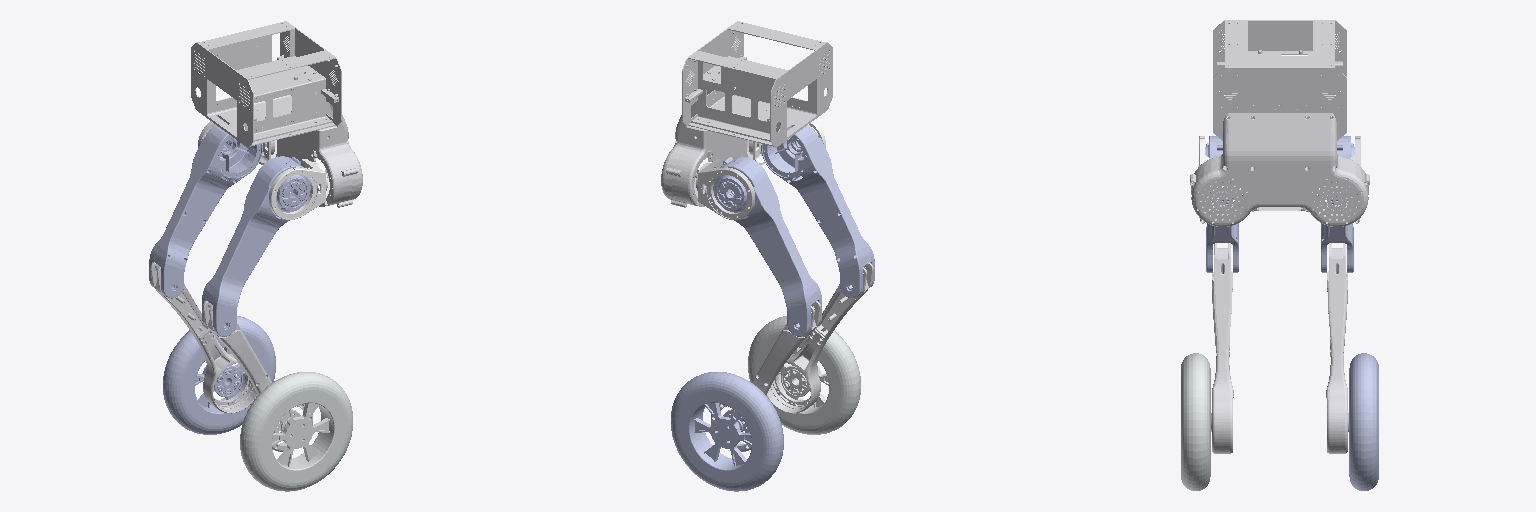
URDF robot description (l5aurdf20260521):
<?xml version="1.0" encoding="utf-8"?>
<!-- This URDF was automatically created by SolidWorks to URDF Exporter! Originally created by Stephen Brawner (brawner@gmail.com) 
     Commit Version: 1.6.0-1-g15f4949  Build Version: 1.6.7594.29634
     For more information, please see http://wiki.ros.org/sw_urdf_exporter -->
<robot
  name="l5aurdf20260521">

  <mujoco>
    <compiler meshdir="../meshes" discardvisual="false" balanceinertia="false" />
  </mujoco>

<!-- 由urdf生成xml时需打开下面注释，生成完之后进行注释 -->
  <!-- <link 
    name="world">
  </link>
  <joint 
    name="base_joint" type="floating">
    <parent link="world" />
    <child link="base_link" />
  </joint> -->

  <link
    name="base_link">
    <inertial>
      <origin
        xyz="-0.057921 0.000679 0.013437"
        rpy="0 0 0" />
      <mass
        value="9.6101" />
      <inertia
        ixx="0.12573"
        ixy="0.0005"
        ixz="0.027108"
        iyy="0.11618"
        iyz="-0.000592"
        izz="0.10822" />
    </inertial>
    <visual>
      <origin
        xyz="0 0 0"
        rpy="0 0 0" />
      <geometry>
        <mesh
          filename="../meshes/base_link.STL" />
      </geometry>
      <material
        name="">
        <color
          rgba="0.8902 0.8902 0.91373 1" />
      </material>
    </visual>
    <collision>
      <origin
        xyz="0 0 0"
        rpy="0 0 0" />
      <geometry>
        <mesh
          filename="../meshes/base_link.STL" />
      </geometry>
    </collision>
  </link>
  <link
    name="left_hip_roll_link">
    <inertial>
      <origin
        xyz="-0.067435 0.052643 -3.2E-05"
        rpy="0 0 0" />
      <mass
        value="1.2052" />
      <inertia
        ixx="0.001653"
        ixy="0.000623"
        ixz="0"
        iyy="0.002402"
        iyz="1E-06"
        izz="0.002368" />
    </inertial>
    <visual>
      <origin
        xyz="0 0 0"
        rpy="0 0 0" />
      <geometry>
        <mesh
          filename="../meshes/left_hip_roll_link.STL" />
      </geometry>
      <material
        name="">
        <color
          rgba="0.8902 0.8902 0.91373 1" />
      </material>
    </visual>
    <collision>
      <origin
        xyz="0 0 0"
        rpy="0 0 0" />
      <geometry>
        <mesh
          filename="../meshes/left_hip_roll_link.STL" />
      </geometry>
    </collision>
  </link>
  <joint
    name="left_hip_roll_joint"
    type="revolute">
    <origin
      xyz="-0.027 0.105 -0.1017"
      rpy="0 0 0" />
    <parent
      link="base_link" />
    <child
      link="left_hip_roll_link" />
    <axis
      xyz="1 0 0" />
    <limit
      lower="-0.384"
      upper="1.396"
      effort="90"
      velocity="16.433" />
  </joint>
  <link
    name="left_hip_pitch_link">
    <inertial>
      <origin
        xyz="-0.032261 -0.059213 -0.041738"
        rpy="0 0 0" />
      <mass
        value="2.294" />
      <inertia
        ixx="0.017999"
        ixy="0.001578"
        ixz="-0.009529"
        iyy="0.023509"
        iyz="0.002039"
        izz="0.009994" />
    </inertial>
    <visual>
      <origin
        xyz="0 0 0"
        rpy="0 0 0" />
      <geometry>
        <mesh
          filename="../meshes/left_hip_pitch_link.STL" />
      </geometry>
      <material
        name="">
        <color
          rgba="0.79216 0.81961 0.93333 1" />
      </material>
    </visual>
    <collision>
      <origin
        xyz="0 0 0"
        rpy="0 0 0" />
      <geometry>
        <mesh
          filename="../meshes/left_hip_pitch_link.STL" />
      </geometry>
    </collision>
  </link>
  <joint
    name="left_hip_pitch_joint"
    type="revolute">
    <origin
      xyz="-0.08 0.0375 0"
      rpy="0 0 0" />
    <parent
      link="left_hip_roll_link" />
    <child
      link="left_hip_pitch_link" />
    <axis
      xyz="0 1 0" />
    <limit
      lower="-0.908"
      upper="1.396"
      effort="90"
      velocity="16.433" />
  </joint>
  <link
    name="left_knee_link">
    <inertial>
      <origin
        xyz="0.11397 -0.00529 -0.19558"
        rpy="0 0 0" />
      <mass
        value="1.6802" />
      <inertia
        ixx="0.017804"
        ixy="0.000397"
        ixz="0.009364"
        iyy="0.023805"
        iyz="-0.000707"
        izz="0.006727" />
    </inertial>
    <visual>
      <origin
        xyz="0 0 0"
        rpy="0 0 0" />
      <geometry>
        <mesh
          filename="../meshes/left_knee_link.STL" />
      </geometry>
      <material
        name="">
        <color
          rgba="0.8902 0.8902 0.91373 1" />
      </material>
    </visual>
    <collision>
      <origin
        xyz="0 0 0"
        rpy="0 0 0" />
      <geometry>
        <mesh
          filename="../meshes/left_knee_link.STL" />
      </geometry>
    </collision>
  </link>
  <joint
    name="left_knee_joint"
    type="revolute">
    <origin
      xyz="-0.15 -0.0375 -0.25981"
      rpy="0 0 0" />
    <parent
      link="left_hip_pitch_link" />
    <child
      link="left_knee_link" />
    <axis
      xyz="0 1 0" />
    <limit
      lower="-1.309"
      upper="0.262"
      effort="130"
      velocity="14.653" />
  </joint>
  <link
    name="left_wheel_link">
    <inertial>
      <origin
        xyz=" -0.007268  0.034782 -0.003159"
        rpy="0 0 0" />
      <mass
        value="1.232459" />
      <inertia
        ixx="0.004718"
        ixy="0"
        ixz="0"
        iyy=" 0.008809"
        iyz="0"
        izz="0.004718" />
    </inertial>
    <visual>
      <origin
        xyz="0 0 0"
        rpy="0 0 0" />
      <geometry>
        <mesh
          filename="../meshes/left_wheel_link.STL" />
      </geometry>
      <material
        name="">
        <color
          rgba="0.79216 0.81961 0.93333 1" />
      </material>
    </visual>
    <collision>
      <origin
        xyz="0 0 0"
        rpy="0 0 0" />
      <geometry>
        <mesh
          filename="../meshes/left_wheel_link.STL" />
      </geometry>
    </collision>
  </link>
  <joint
    name="left_wheel_joint"
    type="revolute">
    <origin
      xyz="0.15 0.0135 -0.25981"
      rpy="0 0 0" />
    <parent
      link="left_knee_link" />
    <child
      link="left_wheel_link" />
    <axis
      xyz="0 1 0" />
    <limit
      lower="-1000000"
      upper="1000000"
      effort="90"
      velocity="16.433" />
  </joint>
  <link
    name="right_hip_roll_link">
    <inertial>
      <origin
        xyz="-0.067435 -0.052643 3.2E-05"
        rpy="0 0 0" />
      <mass
        value="1.2052" />
      <inertia
        ixx="0.001653"
        ixy="-0.000623"
        ixz="0"
        iyy="0.002402"
        iyz="1E-06"
        izz="0.002368" />
    </inertial>
    <visual>
      <origin
        xyz="0 0 0"
        rpy="0 0 0" />
      <geometry>
        <mesh
          filename="../meshes/right_hip_roll_link.STL" />
      </geometry>
      <material
        name="">
        <color
          rgba="1 1 1 1" />
      </material>
    </visual>
    <collision>
      <origin
        xyz="0 0 0"
        rpy="0 0 0" />
      <geometry>
        <mesh
          filename="../meshes/right_hip_roll_link.STL" />
      </geometry>
    </collision>
  </link>
  <joint
    name="right_hip_roll_joint"
    type="revolute">
    <origin
      xyz="-0.027 -0.105 -0.1017"
      rpy="0 0 0" />
    <parent
      link="base_link" />
    <child
      link="right_hip_roll_link" />
    <axis
      xyz="1 0 0" />
    <limit
      lower="-1.396"
      upper="0.384"
      effort="90"
      velocity="16.433" />
  </joint>
  <link
    name="right_hip_pitch_link">
    <inertial>
      <origin
        xyz="-0.026447 0.059888 -0.032975"
        rpy="0 0 0" />
      <mass
        value="2.8399" />
      <inertia
        ixx="0.019286"
        ixy="-0.001629"
        ixz="-0.010145"
        iyy="0.025049"
        iyz="-0.002114"
        izz="0.010722" />
    </inertial>
    <visual>
      <origin
        xyz="0 0 0"
        rpy="0 0 0" />
      <geometry>
        <mesh
          filename="../meshes/right_hip_pitch_link.STL" />
      </geometry>
      <material
        name="">
        <color
          rgba="0.79216 0.81961 0.93333 1" />
      </material>
    </visual>
    <collision>
      <origin
        xyz="0 0 0"
        rpy="0 0 0" />
      <geometry>
        <mesh
          filename="../meshes/right_hip_pitch_link.STL" />
      </geometry>
    </collision>
  </link>
  <joint
    name="right_hip_pitch_joint"
    type="revolute">
    <origin
      xyz="-0.08 -0.0375 0"
      rpy="0 0 0" />
    <parent
      link="right_hip_roll_link" />
    <child
      link="right_hip_pitch_link" />
    <axis
      xyz="0 1 0" />
    <limit
      lower="-0.908"
      upper="1.396"
      effort="90"
      velocity="16.433" />
  </joint>
  <link
    name="right_knee_link">
    <inertial>
      <origin
        xyz="0.11394 0.005271 -0.19561"
        rpy="0 0 0" />
      <mass
        value="1.6815" />
      <inertia
        ixx="0.017787"
        ixy="-0.000395"
        ixz="0.009345"
        iyy="0.023772"
        iyz="0.000707"
        izz="0.006713" />
    </inertial>
    <visual>
      <origin
        xyz="0 0 0"
        rpy="0 0 0" />
      <geometry>
        <mesh
          filename="../meshes/right_knee_link.STL" />
      </geometry>
      <material
        name="">
        <color
          rgba="0.8902 0.8902 0.91373 1" />
      </material>
    </visual>
    <collision>
      <origin
        xyz="0 0 0"
        rpy="0 0 0" />
      <geometry>
        <mesh
          filename="../meshes/right_knee_link.STL" />
      </geometry>
    </collision>
  </link>
  <joint
    name="right_knee_joint"
    type="revolute">
    <origin
      xyz="-0.15 0.0375 -0.25981"
      rpy="0 0 0" />
    <parent
      link="right_hip_pitch_link" />
    <child
      link="right_knee_link" />
    <axis
      xyz="0 1 0" />
    <limit
      lower="-1.309"
      upper="0.262"
      effort="130"
      velocity="14.653" />
  </joint>
  <link
    name="right_wheel_link">
    <inertial>
      <origin
        xyz="-0.000001 -0.034784 0"
        rpy="0 0 0" />
      <mass
        value="1.233799" />
      <inertia
        ixx="0.004718"
        ixy="0"
        ixz="0"
        iyy="0.008809"
        iyz="0"
        izz="0.004718" />
    </inertial>
    <visual>
      <origin
        xyz="0 0 0"
        rpy="0 0 0" />
      <geometry>
        <mesh
          filename="../meshes/right_wheel_link.STL" />
      </geometry>
      <material
        name="">
        <color
          rgba="0.89804 0.91765 0.92941 1" />
      </material>
    </visual>
    <collision>
      <origin
        xyz="0 0 0"
        rpy="0 0 0" />
      <geometry>
        <mesh
          filename="../meshes/right_wheel_link.STL" />
      </geometry>
    </collision>
  </link>
  <joint
    name="right_wheel_joint"
    type="revolute">
    <origin
      xyz="0.15 -0.0135 -0.25981"
      rpy="0 0 0" />
    <parent
      link="right_knee_link" />
    <child
      link="right_wheel_link" />
    <axis
      xyz="0 1 0" />
    <limit
      lower="-1000000"
      upper="1000000"
      effort="90"
      velocity="16.433" />
  </joint>
</robot>

--- Render facts (derived) ---
Views: 3 orthographic renders of the robot side by side, from view 1: azimuth 30°, elevation 25°; view 2: azimuth 150°, elevation 25°; view 3: azimuth 270°, elevation 25°.
Model l5aurdf20260521 with 9 links and 8 joints (8 revolute), rooted at base_link, posed every joint at zero.
Visible links, largest first — view 1: base_link, right_wheel_link, left_hip_pitch_link, right_hip_pitch_link, left_wheel_link, left_knee_link, right_knee_link, right_hip_roll_link; view 2: base_link, left_wheel_link, right_hip_pitch_link, left_hip_pitch_link, right_wheel_link, right_knee_link, left_knee_link, left_hip_roll_link; view 3: base_link, left_wheel_link, right_wheel_link, left_knee_link, right_knee_link, left_hip_pitch_link, right_hip_pitch_link.
Boxes of the visible links, x1=… form: base_link: x1=191, y1=21, x2=362, y2=207; right_wheel_link: x1=240, y1=372, x2=352, y2=491; left_hip_pitch_link: x1=149, y1=122, x2=262, y2=298; right_hip_pitch_link: x1=202, y1=156, x2=310, y2=336; left_wheel_link: x1=163, y1=316, x2=275, y2=434; left_knee_link: x1=150, y1=262, x2=256, y2=413; right_knee_link: x1=203, y1=301, x2=312, y2=451; right_hip_roll_link: x1=269, y1=159, x2=327, y2=219; base_link: x1=661, y1=21, x2=832, y2=207; left_wheel_link: x1=671, y1=372, x2=783, y2=491; right_hip_pitch_link: x1=761, y1=125, x2=874, y2=298; left_hip_pitch_link: x1=713, y1=156, x2=821, y2=336; right_wheel_link: x1=748, y1=316, x2=860, y2=434; right_knee_link: x1=767, y1=262, x2=873, y2=413; left_knee_link: x1=711, y1=301, x2=820, y2=451; left_hip_roll_link: x1=696, y1=159, x2=754, y2=219; base_link: x1=1190, y1=20, x2=1369, y2=226; left_wheel_link: x1=1348, y1=353, x2=1378, y2=490; right_wheel_link: x1=1181, y1=353, x2=1211, y2=490; left_knee_link: x1=1326, y1=243, x2=1347, y2=453; right_knee_link: x1=1212, y1=243, x2=1233, y2=453; left_hip_pitch_link: x1=1321, y1=136, x2=1354, y2=272; right_hip_pitch_link: x1=1205, y1=136, x2=1238, y2=272.
Size in the robot's own frame: 0.3335 by 0.363 by 0.9014 metres.
Meshes: 9 distinct files referenced, 9 mesh visuals loaded (9 binary STL).
